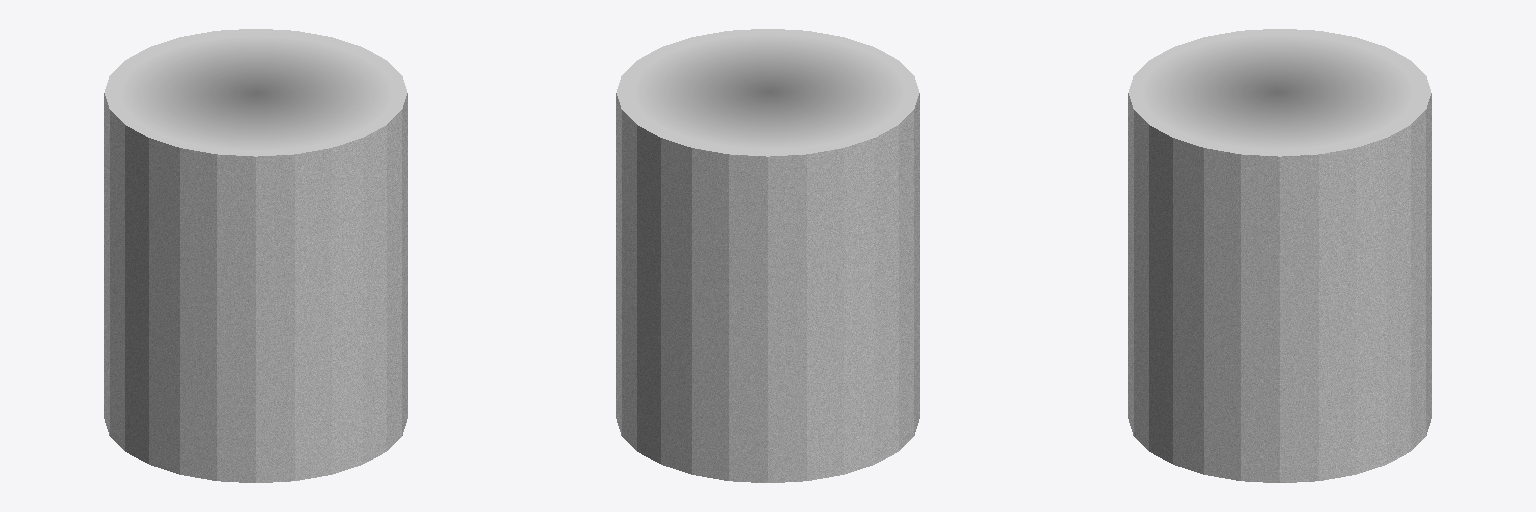
3 renders of one model, left to right at view 1: azimuth 30°, elevation 25°; view 2: azimuth 150°, elevation 25°; view 3: azimuth 270°, elevation 25°, orthographic.
Parts seen in each view (by area): view 1: DecShroudYF-3, BaseYF-3; view 2: DecShroudYF-3, BaseYF-3; view 3: DecShroudYF-3, BaseYF-3.
Part boxes in pixels (x1,y1,x2,y2): DecShroudYF-3: (104,104,407,482); BaseYF-3: (104,29,407,167); DecShroudYF-3: (616,104,919,482); BaseYF-3: (616,29,919,167); DecShroudYF-3: (1128,104,1431,482); BaseYF-3: (1128,29,1431,167).
Bounding box in the file's own units: 1.25 × 1.49 × 1.25.
Materials: 5 (5 with a texture image).